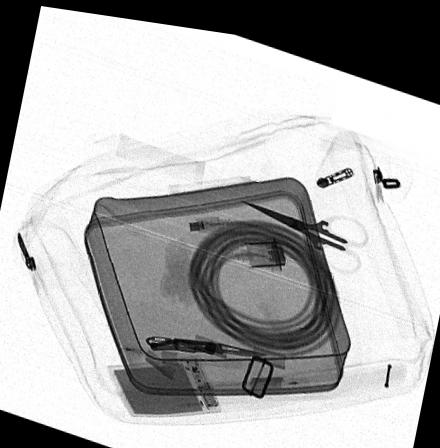Knife: (146, 328, 266, 346)
Powerbank: (105, 348, 219, 410)
Scissors: (236, 189, 367, 262)
